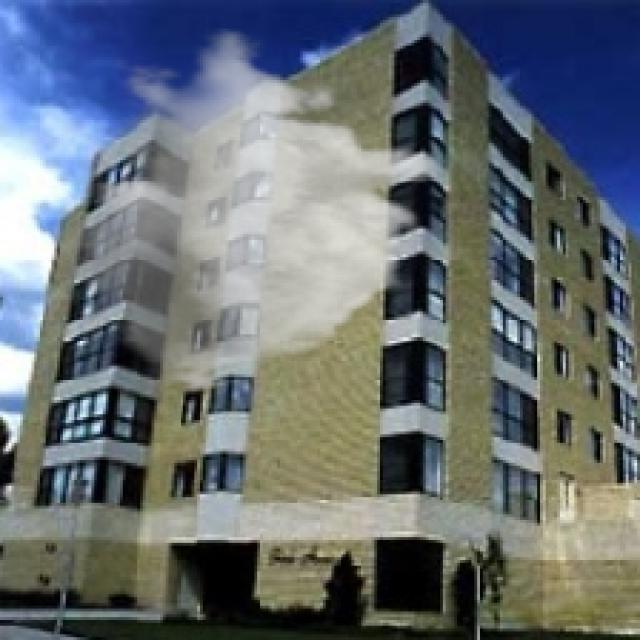Smoke: (51, 29, 448, 398)
